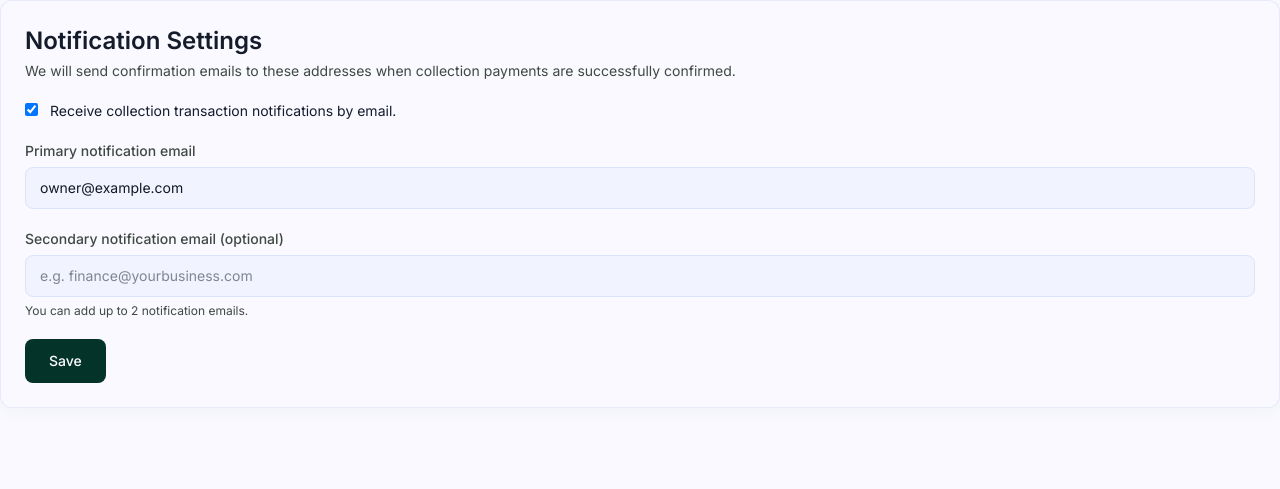
Test: NotificationSettingsCard › surfaces the backend's exact error message instead of doing nothing
Expected: the field showing "owner@example.com" is shown, [25,167,1255,209]
Click the button "Save" at coordinates (65, 361), box [25,339,106,383]
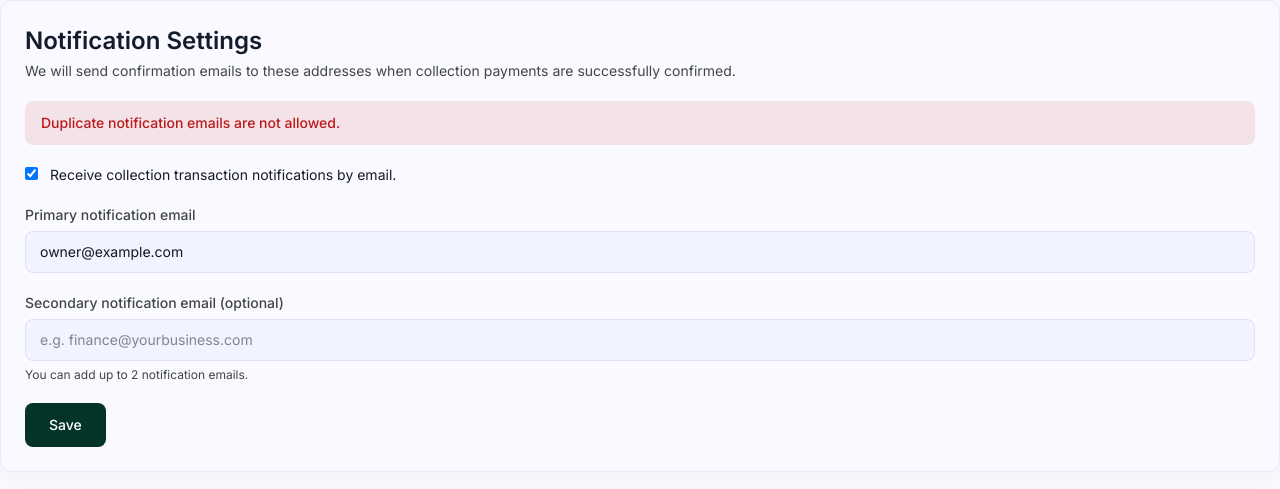
Expected: the text "Duplicate notification emails are not allowed." is shown, [25,101,1255,145]
